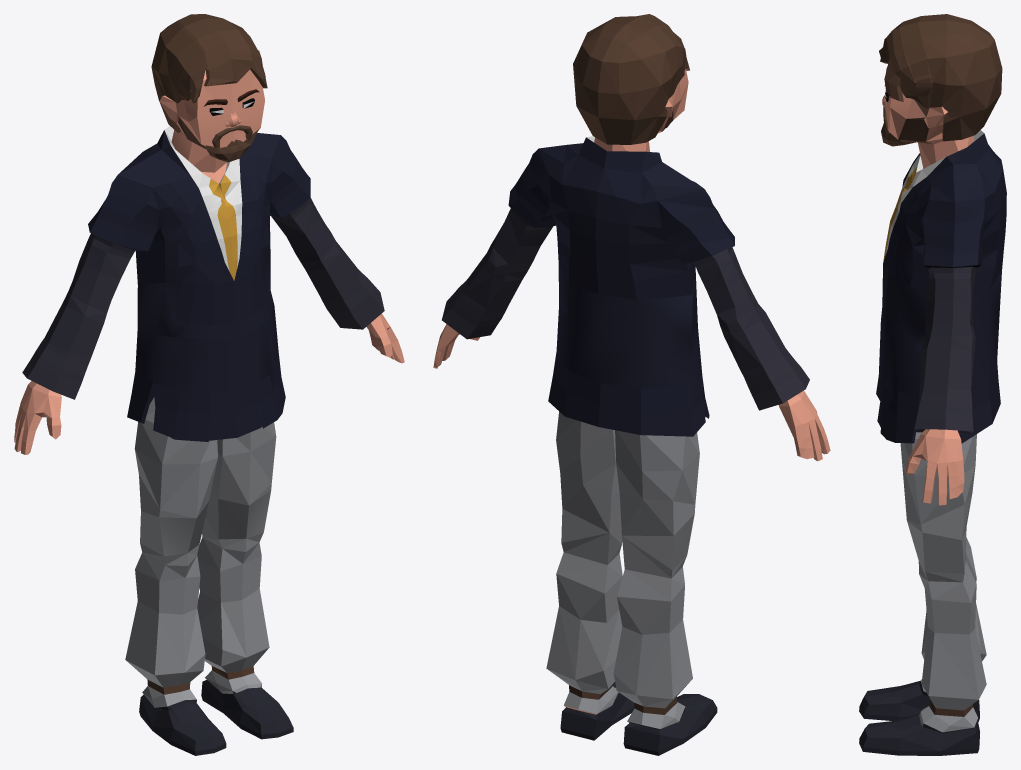
The model's file is XR_model_teamleiter.fbx.
3 views of the same model, side by side, from view 1: azimuth 30°, elevation 25°; view 2: azimuth 150°, elevation 25°; view 3: azimuth 270°, elevation 25° (orthographic).
Parts seen in each view (by area): view 1: Character_Female_Hotel Owner.001; view 2: Character_Female_Hotel Owner.001; view 3: Character_Female_Hotel Owner.001.
Part boxes in pixels (bbox=[...]): Character_Female_Hotel Owner.001: bbox=[14, 14, 404, 755]; Character_Female_Hotel Owner.001: bbox=[433, 14, 830, 755]; Character_Female_Hotel Owner.001: bbox=[859, 14, 1006, 755].
Size of the model in its own units: 101 by 176 by 33.27.
